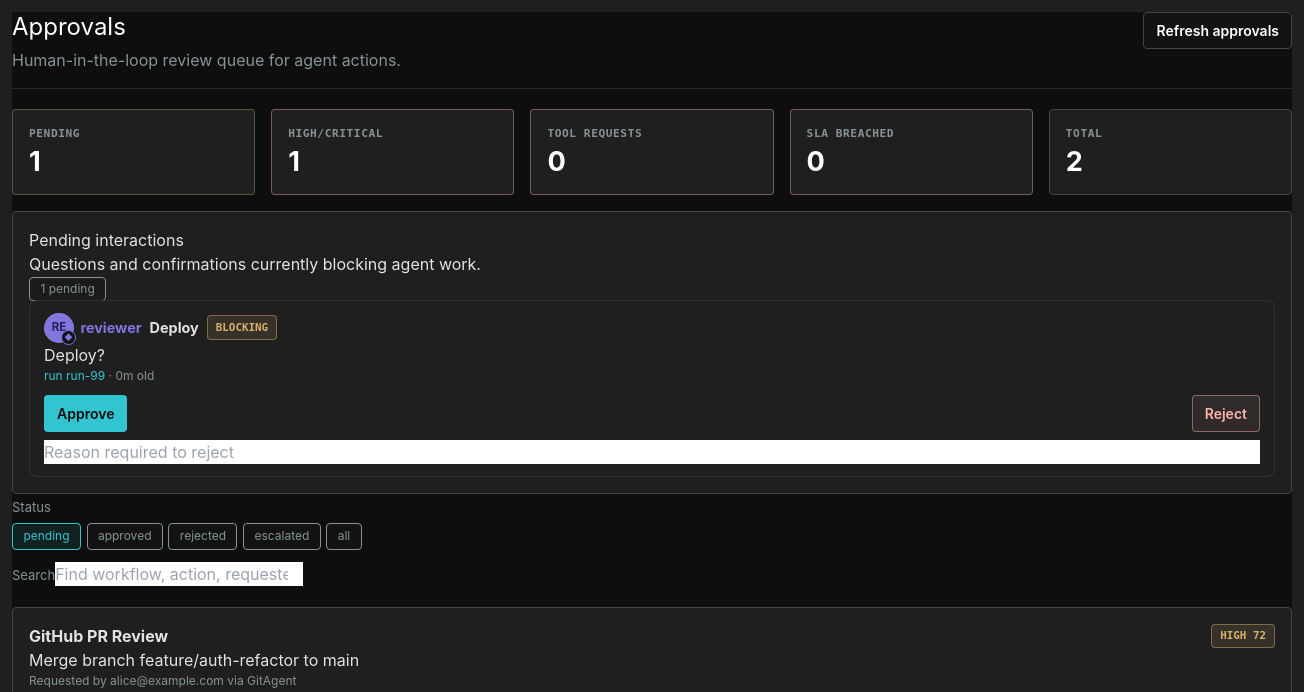
Test case: ApprovalsDashboard integration › treats a 409 race as a neutral already-answered update
This screenshot has width=1304, height=692.
Click the button "Approve".
click(86, 413)  # box [44,395,127,432]
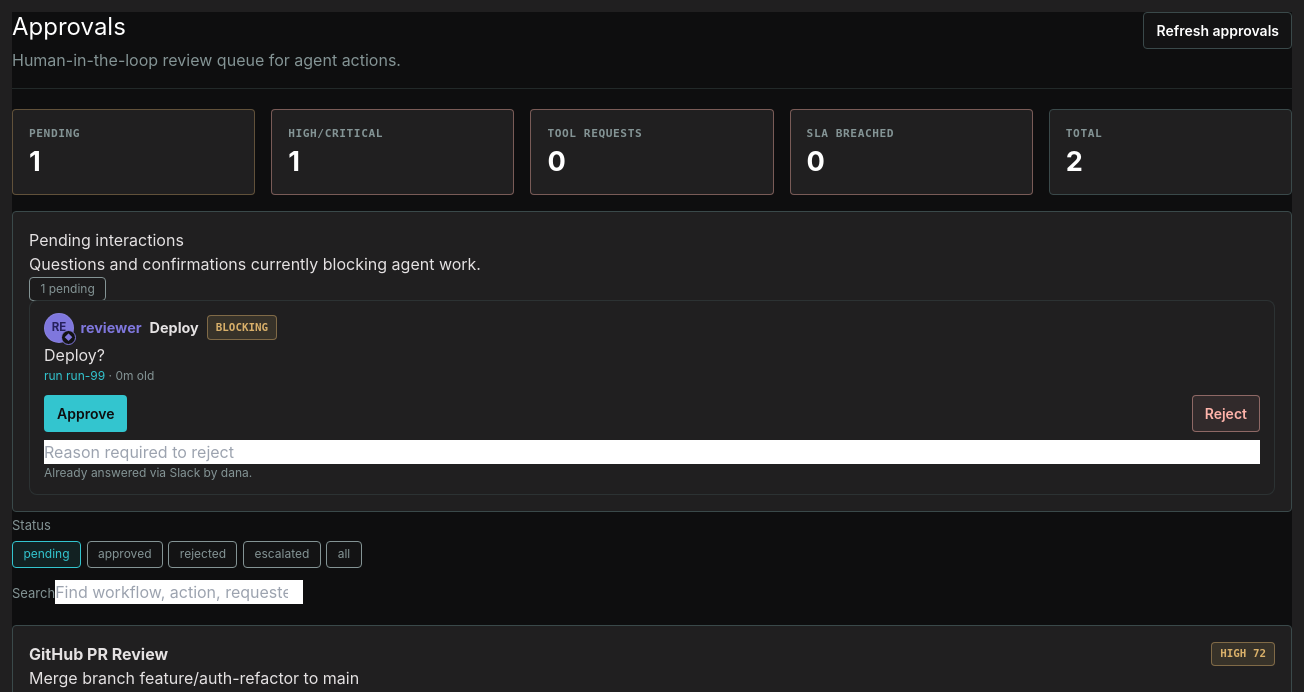
Result: the message reads "Already answered via Slack by dana." at [44,465,252,480]
